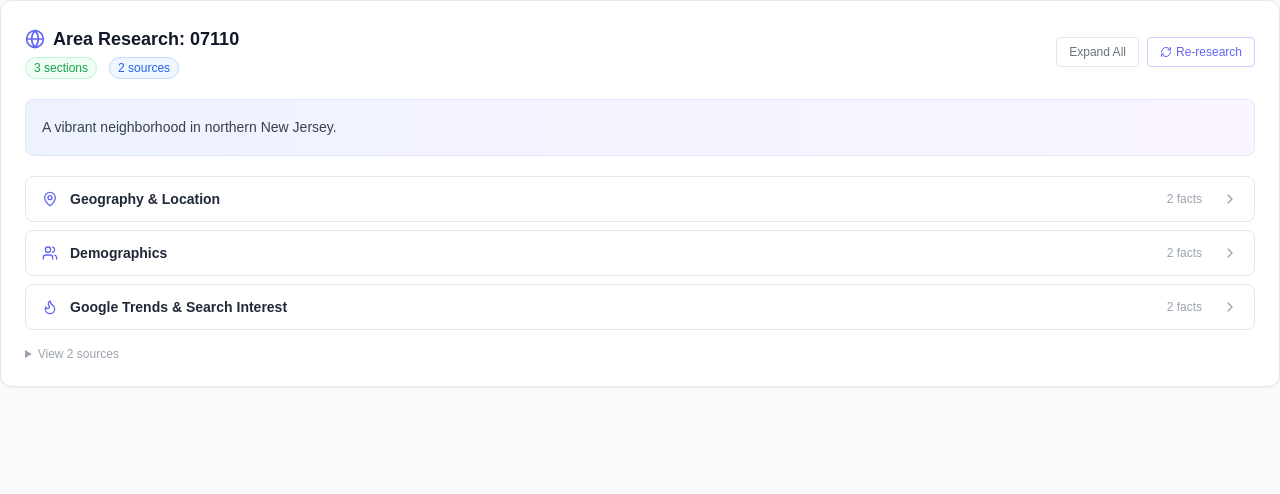
ZipcodeResearch Component › Cached report display › expands section on click to show content
Expected: the text "Located in Essex County, NJ." is not shown
# Click to expand
Click the text "Geography & Location" at (145, 199), box [70,191,220,207]
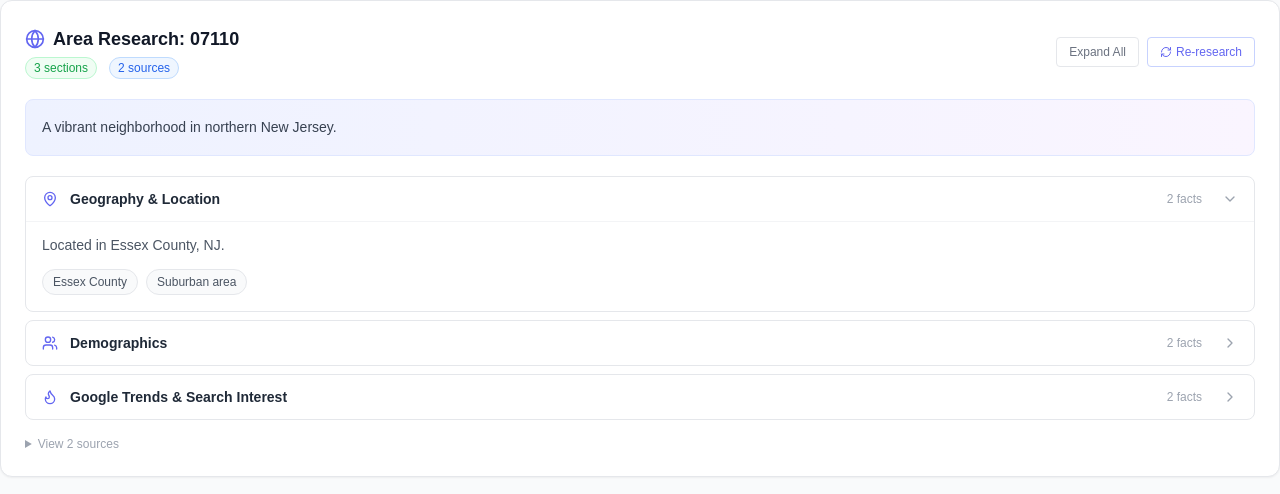
Expected: the text "Located in Essex County, NJ." is shown, [42,237,225,253]
Expected: the text "Essex County" is shown, [42,268,138,294]
Expected: the text "Suburban area" is shown, [146,268,247,294]
